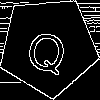Q: (23, 21, 72, 77)
